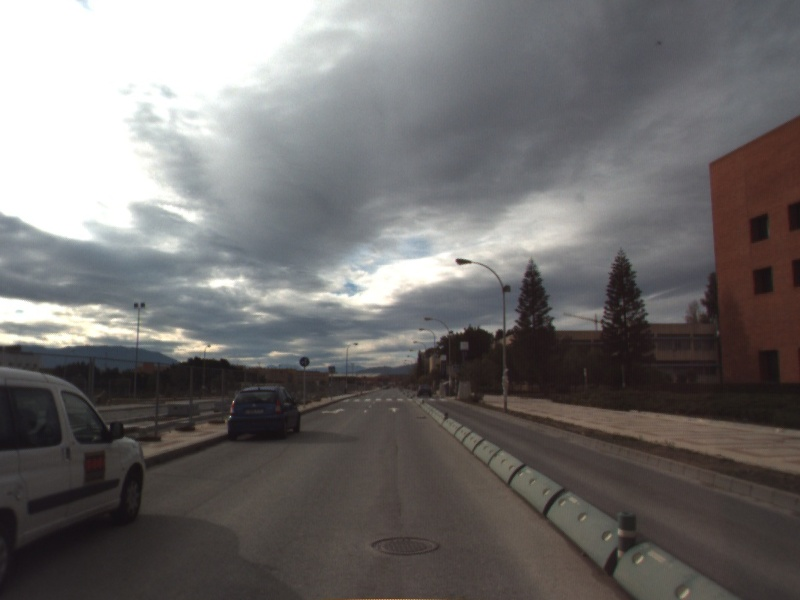STRAIGHT: (387, 406, 401, 414)
STRAIGHT_LEFT: (319, 406, 347, 416)
